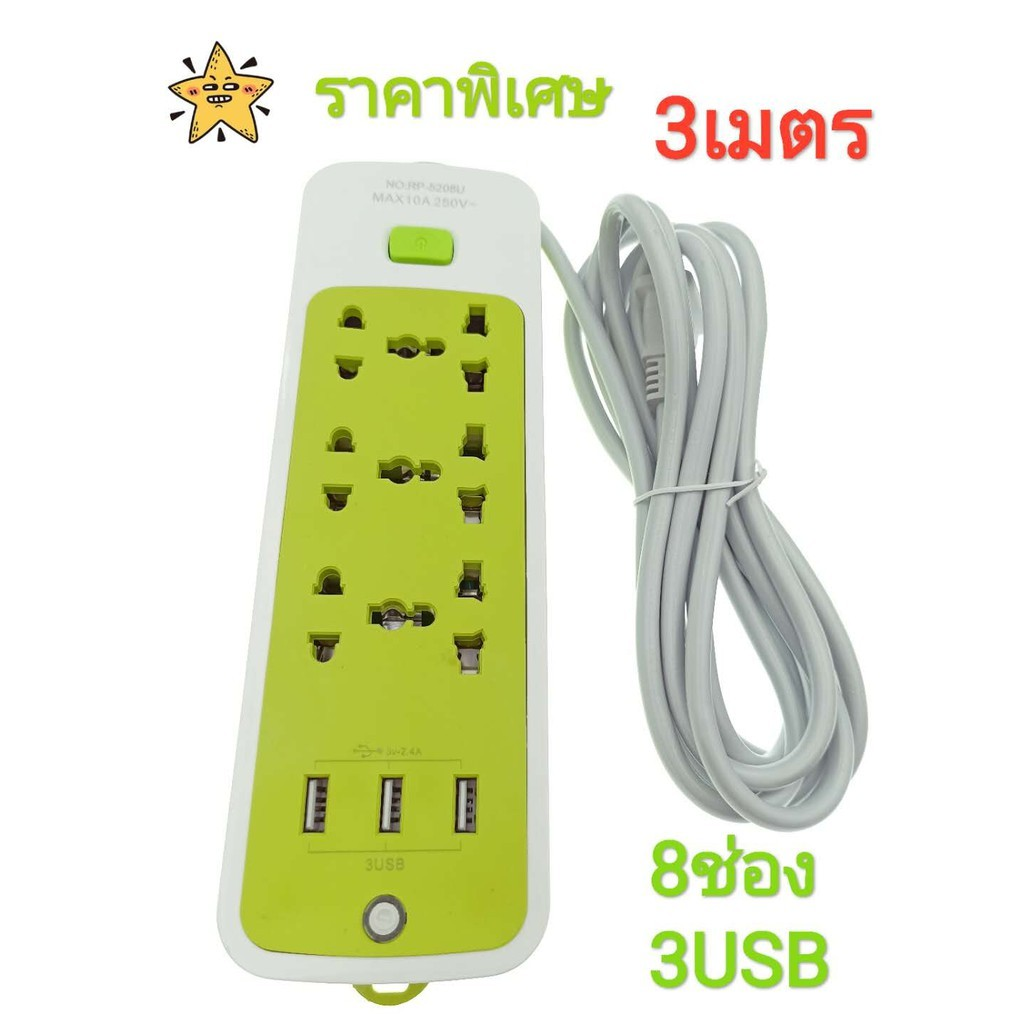Three_eye_plug: (205, 148, 574, 1019)
